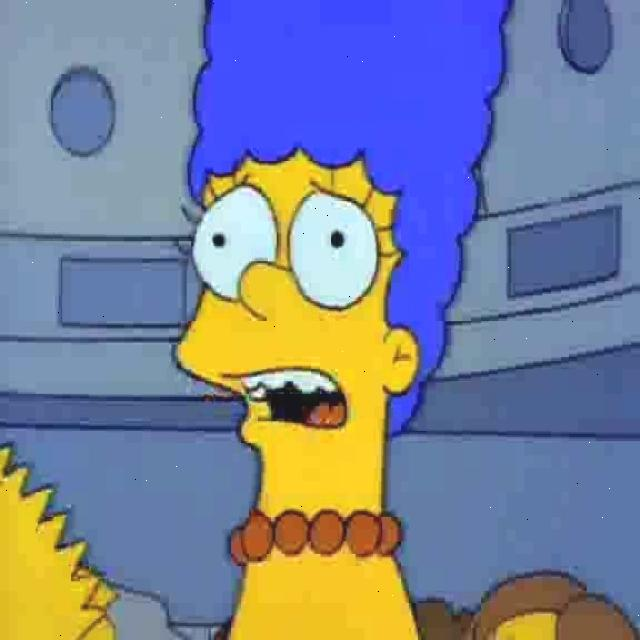Marge Simpson: (171, 1, 518, 565)
